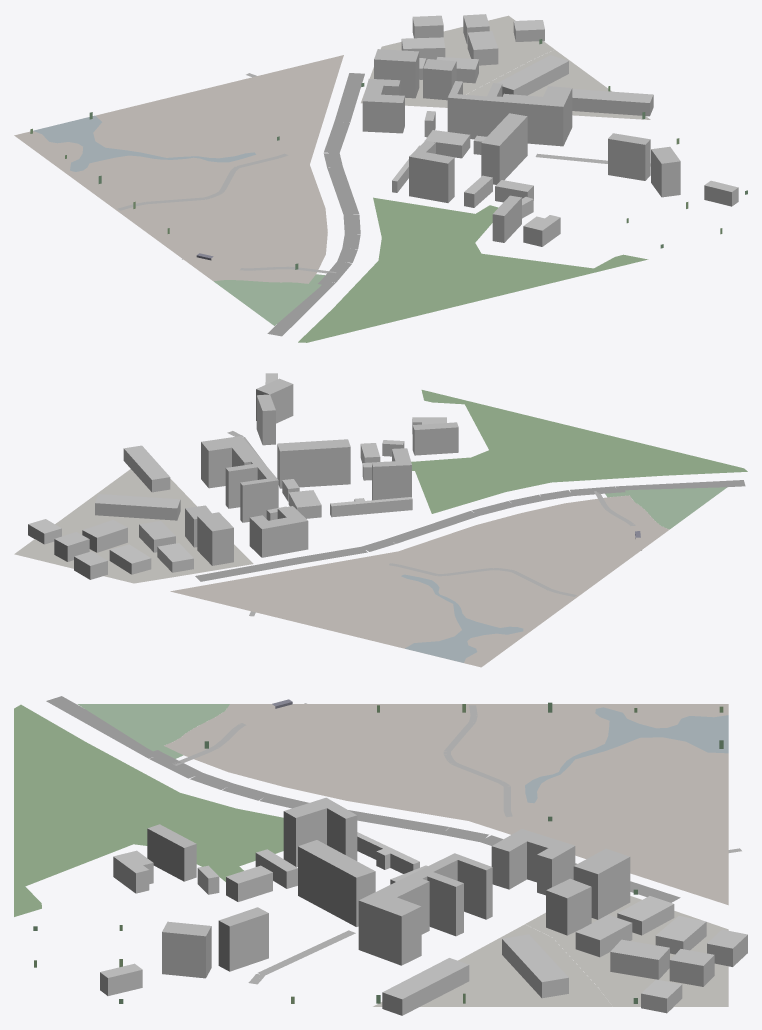
3 views of the same model, one above another, from view 1: azimuth 30°, elevation 25°; view 2: azimuth 150°, elevation 25°; view 3: azimuth 270°, elevation 25° (orthographic). The views are drawn at different scales.
Bounding box in the file's own units: 528 × 39.21 × 514.
